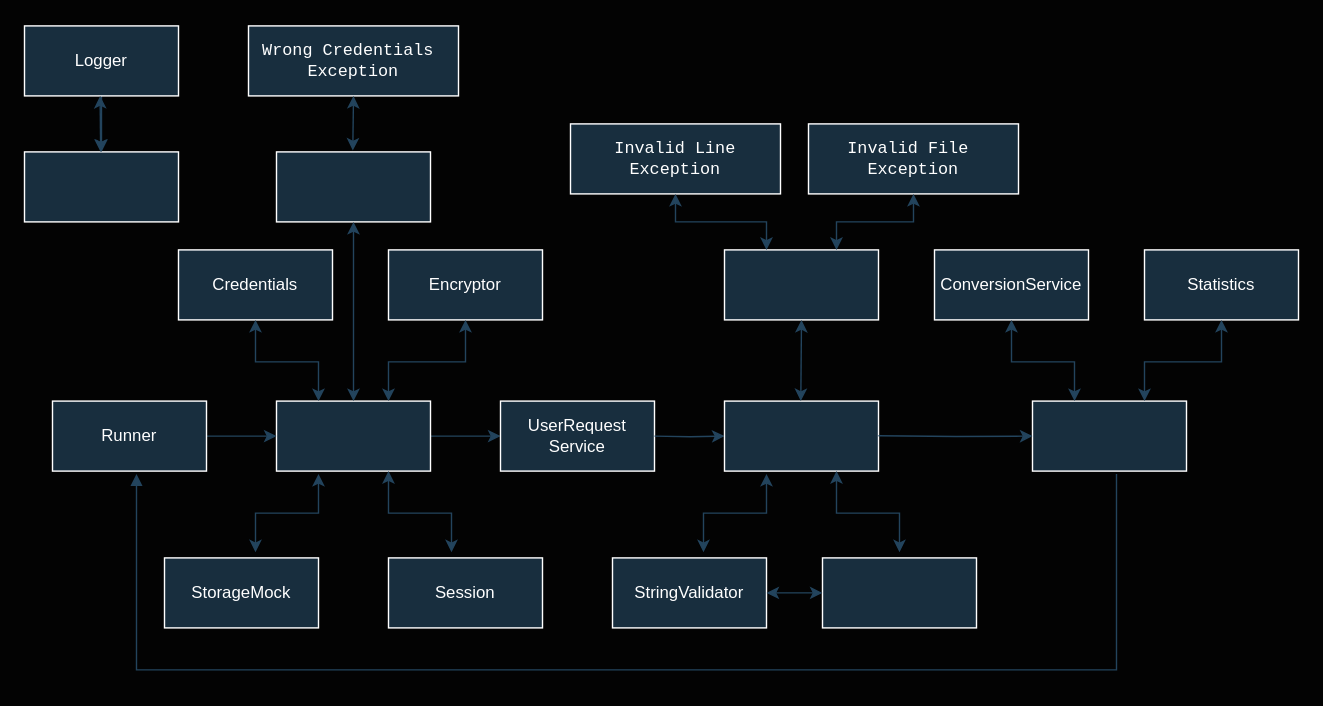
Image size: 1323x706. Some labels were removed from this diagram. Here are the shapes that lost their labels. From the top down, the centre of each, then its label:
At [100,186]: "DateUtil".
At [352,186]: "CredentialValidator".
At [800,284]: "FileValidator".
At [352,435]: "AuthService".
At [800,435]: "FileService".
At [1108,435]: "Statictic Service".
At [898,592]: "RegexUtil".
